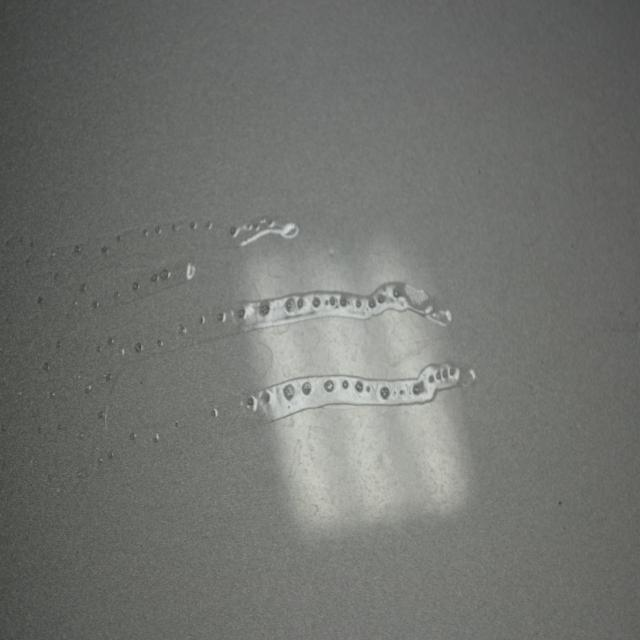runs: (4, 226, 469, 518)
